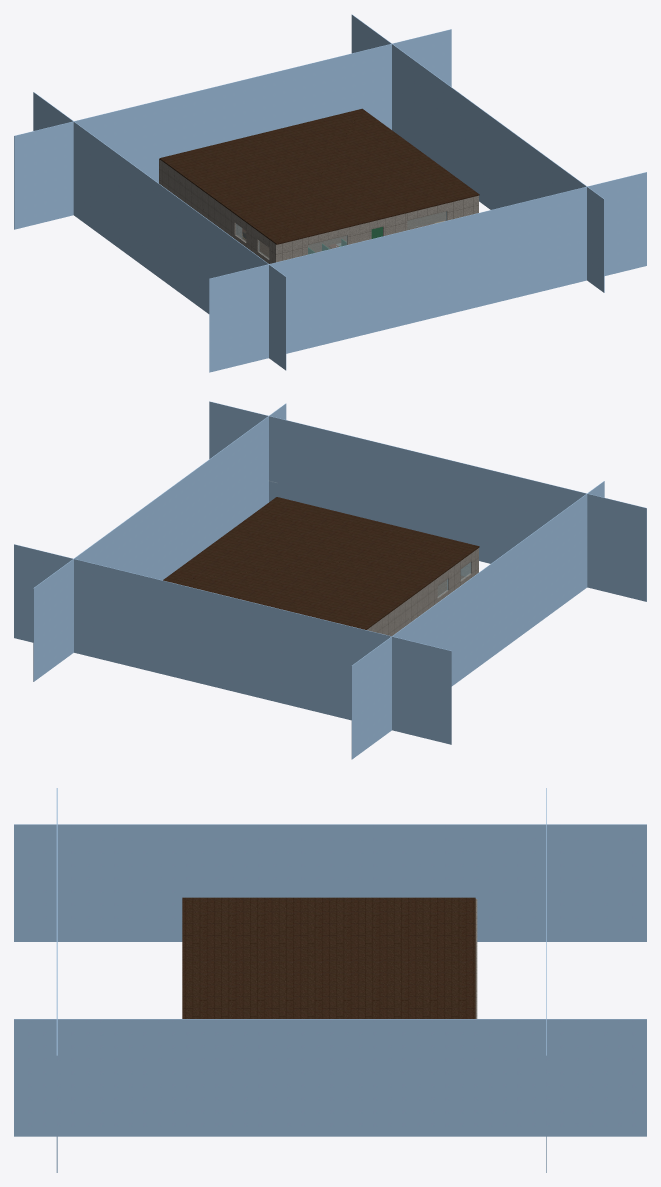
Rendered from interior.glb.
The picture shows the model from 3 angles, top to bottom: view 1: azimuth 30°, elevation 25°; view 2: azimuth 150°, elevation 25°; view 3: azimuth 270°, elevation 25°; orthographic projection. The views are drawn at different scales.
Parts seen in each view (by area): view 1: Sky_Front, Sky_Back, Ceiling, Sky_West, Sky_East, Walls_W_00, House_Floor_Main, Walls_Front_00, Walls_Front_03; view 2: Sky_Back, Sky_Front, Ceiling, Sky_West, Sky_East, Walls_W_00; view 3: Sky_East, Sky_West, Ceiling, Sky_Front.
Part boxes in pixels (x1=…): Sky_Front: x1=209, y1=172, x2=646, y2=372; Sky_Back: x1=14, y1=29, x2=451, y2=229; Ceiling: x1=159, y1=108, x2=479, y2=244; Sky_West: x1=33, y1=92, x2=286, y2=370; Sky_East: x1=351, y1=14, x2=604, y2=292; Walls_W_00: x1=160, y1=160, x2=236, y2=238; House_Floor_Main: x1=242, y1=211, x2=445, y2=257; Walls_Front_00: x1=275, y1=237, x2=307, y2=262; Walls_Front_03: x1=446, y1=195, x2=478, y2=220; Sky_Back: x1=14, y1=544, x2=451, y2=744; Sky_Front: x1=209, y1=401, x2=646, y2=601; Ceiling: x1=163, y1=497, x2=479, y2=629; Sky_West: x1=351, y1=481, x2=604, y2=759; Sky_East: x1=33, y1=403, x2=286, y2=681; Walls_W_00: x1=367, y1=578, x2=437, y2=636; Sky_East: x1=14, y1=1019, x2=646, y2=1136; Sky_West: x1=14, y1=824, x2=646, y2=941; Ceiling: x1=182, y1=897, x2=475, y2=1018; Sky_Front: x1=56, y1=788, x2=57, y2=1172.
Bounding box in the file's own units: 44 × 9.3 × 44.
Materials: 53 (48 with a texture image).
